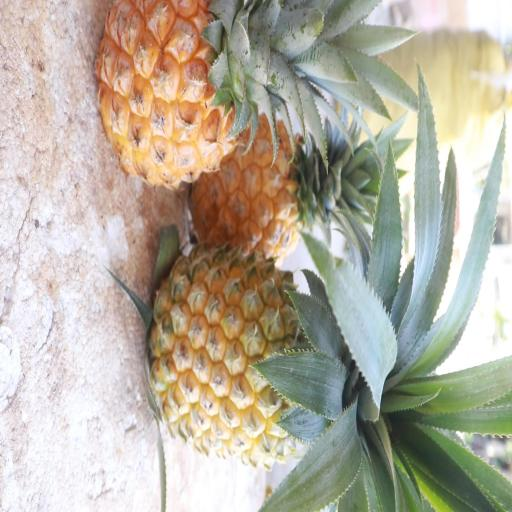Pineapple - v8 v1: (144, 235, 421, 471), (91, 1, 328, 201), (185, 103, 350, 270)
